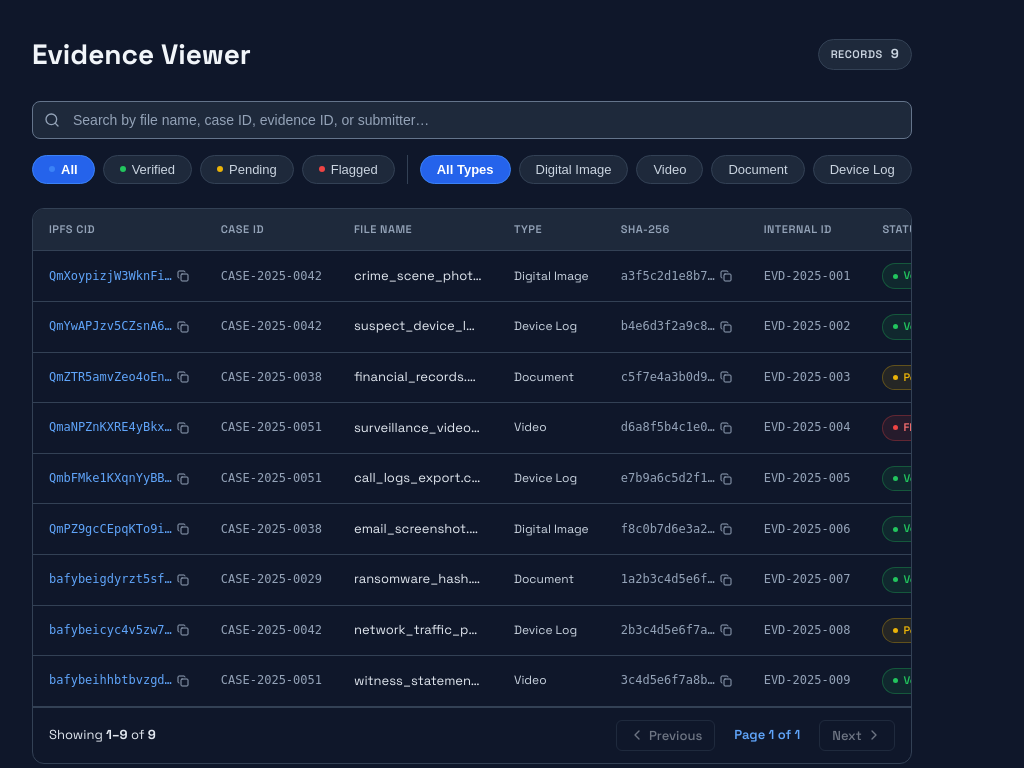
Test: EvidenceViewer (demo) › copy to clipboard › shows an alert instead of failing silently when the clipboard rejects
Click the button named "Copy SHA-256 hash of crime_scene_photo_01.jpg": [726, 276] box [714,264,738,288]
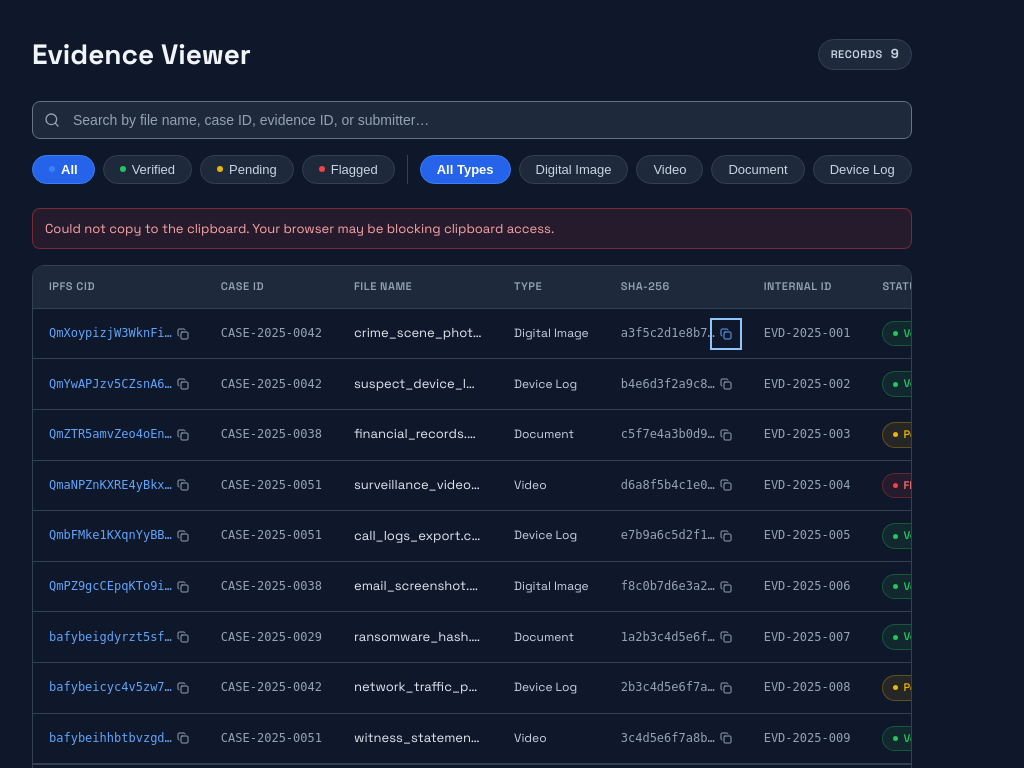
Result: the message shows "Could not copy" at [45,220,554,237]
